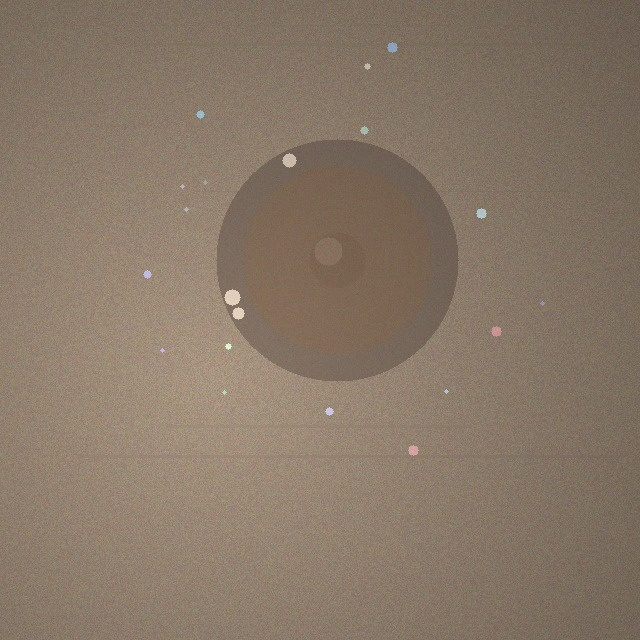overburn: (216, 139, 458, 381)
